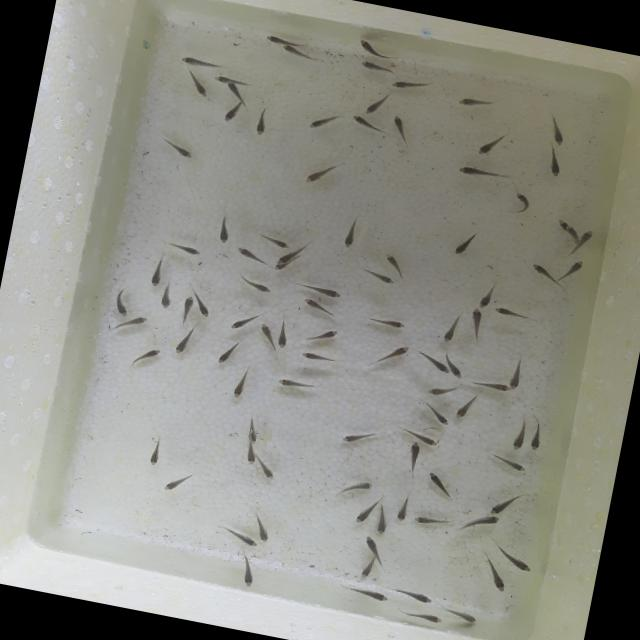fingerling: (299, 148, 350, 194), (447, 160, 513, 188), (486, 485, 530, 521), (474, 122, 512, 163), (389, 71, 442, 100), (161, 464, 202, 501), (348, 34, 395, 65), (212, 332, 248, 372), (292, 276, 346, 302), (434, 307, 468, 348), (154, 132, 199, 162), (370, 340, 411, 372), (387, 581, 438, 606), (458, 509, 503, 537), (179, 67, 214, 103), (541, 112, 574, 150), (484, 450, 530, 477), (449, 227, 484, 262), (140, 432, 172, 470), (422, 471, 459, 503), (305, 105, 343, 136), (226, 363, 256, 402), (234, 552, 263, 592), (395, 424, 443, 448), (455, 90, 503, 114), (274, 373, 320, 398), (361, 311, 411, 334), (496, 546, 537, 574), (338, 425, 380, 452), (213, 526, 260, 550), (396, 604, 445, 627), (342, 582, 391, 605), (129, 342, 164, 374), (235, 272, 278, 298), (481, 562, 512, 598), (541, 146, 571, 183), (306, 322, 344, 351), (248, 102, 274, 144), (505, 189, 539, 221), (361, 88, 394, 120), (250, 228, 294, 252), (410, 509, 452, 534), (170, 324, 198, 361), (160, 237, 205, 260), (299, 297, 343, 320), (339, 212, 363, 254), (110, 282, 136, 320), (348, 113, 389, 137), (212, 213, 240, 248), (337, 474, 377, 498), (452, 392, 482, 424), (388, 114, 417, 147), (402, 440, 427, 478), (178, 54, 225, 74), (227, 309, 261, 336), (422, 379, 460, 403), (354, 58, 399, 78), (251, 511, 278, 544), (419, 402, 453, 428), (558, 257, 588, 286), (464, 306, 486, 345), (392, 493, 416, 528), (298, 348, 340, 368), (381, 252, 411, 280), (360, 268, 398, 290), (148, 254, 170, 292), (507, 420, 531, 454), (352, 498, 378, 529), (474, 280, 499, 312), (493, 304, 533, 324), (262, 33, 308, 50), (233, 245, 270, 266), (447, 605, 482, 627), (466, 377, 511, 394), (156, 280, 179, 313), (507, 358, 529, 392), (273, 317, 295, 351), (372, 507, 396, 538), (254, 459, 282, 485), (526, 418, 546, 454), (279, 44, 319, 62), (255, 322, 278, 350), (178, 294, 198, 326), (359, 534, 384, 558), (220, 98, 242, 125), (244, 416, 263, 446), (194, 298, 216, 322), (530, 262, 557, 281), (225, 80, 248, 100), (356, 560, 376, 582), (126, 312, 150, 330), (243, 444, 261, 467), (578, 226, 596, 248), (448, 363, 466, 382), (274, 251, 292, 267), (270, 263, 290, 275), (565, 226, 581, 240), (434, 362, 451, 375), (212, 73, 228, 85), (556, 218, 568, 230)
